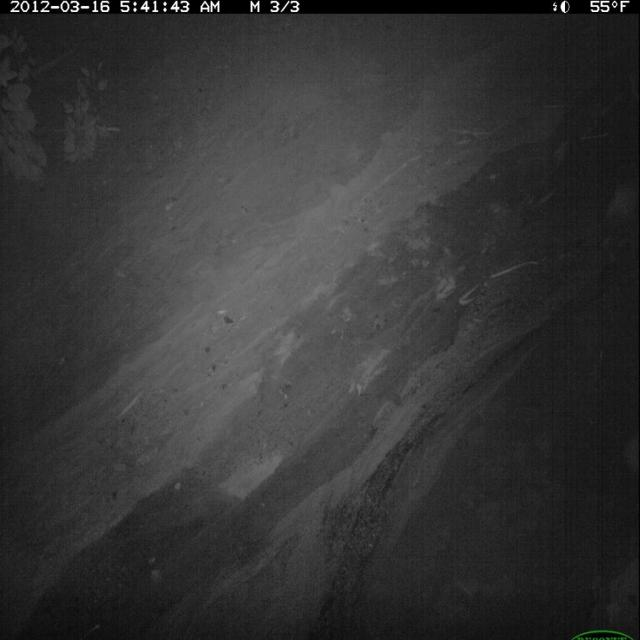opossum: (600, 179, 640, 265)
